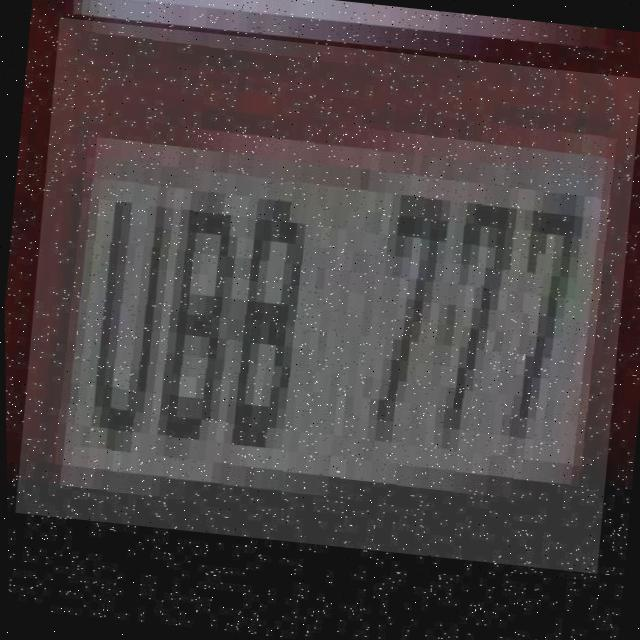LicensePlate: (7, 17, 640, 573)
